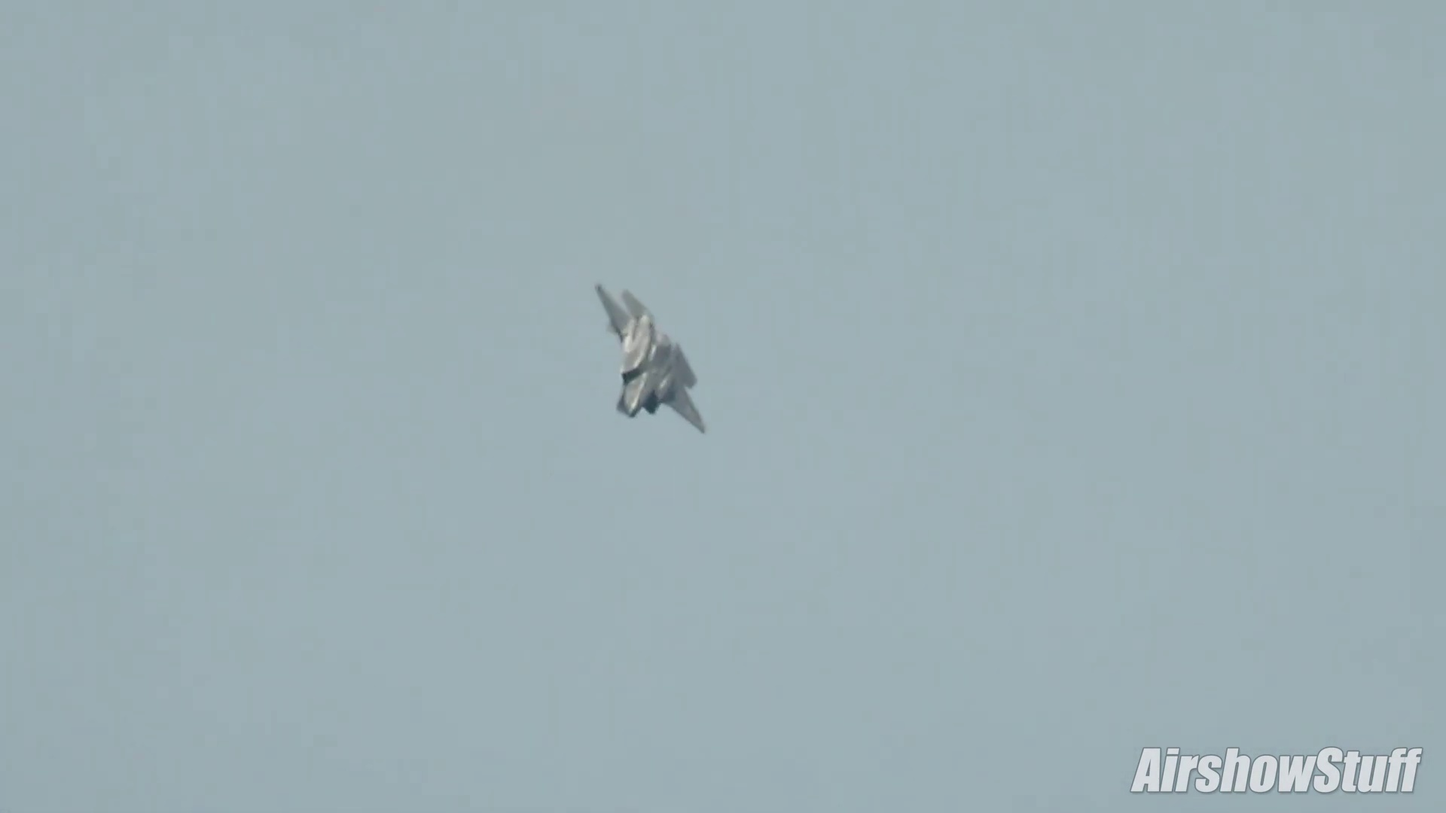F35: (580, 274, 714, 445)
